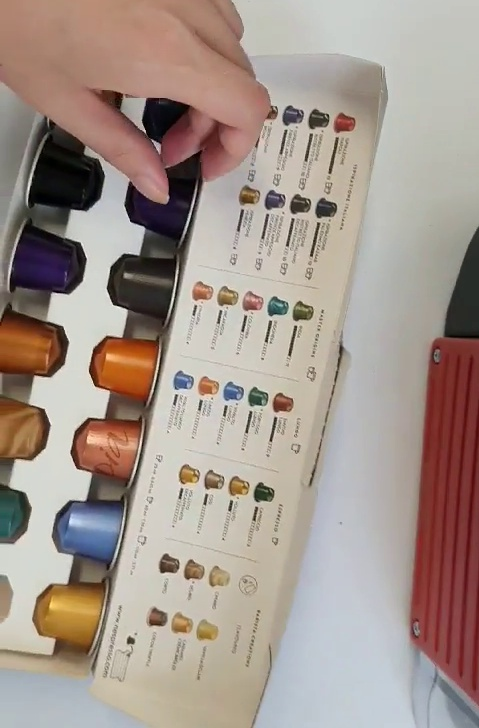capsule_2: (124, 167, 207, 250)
